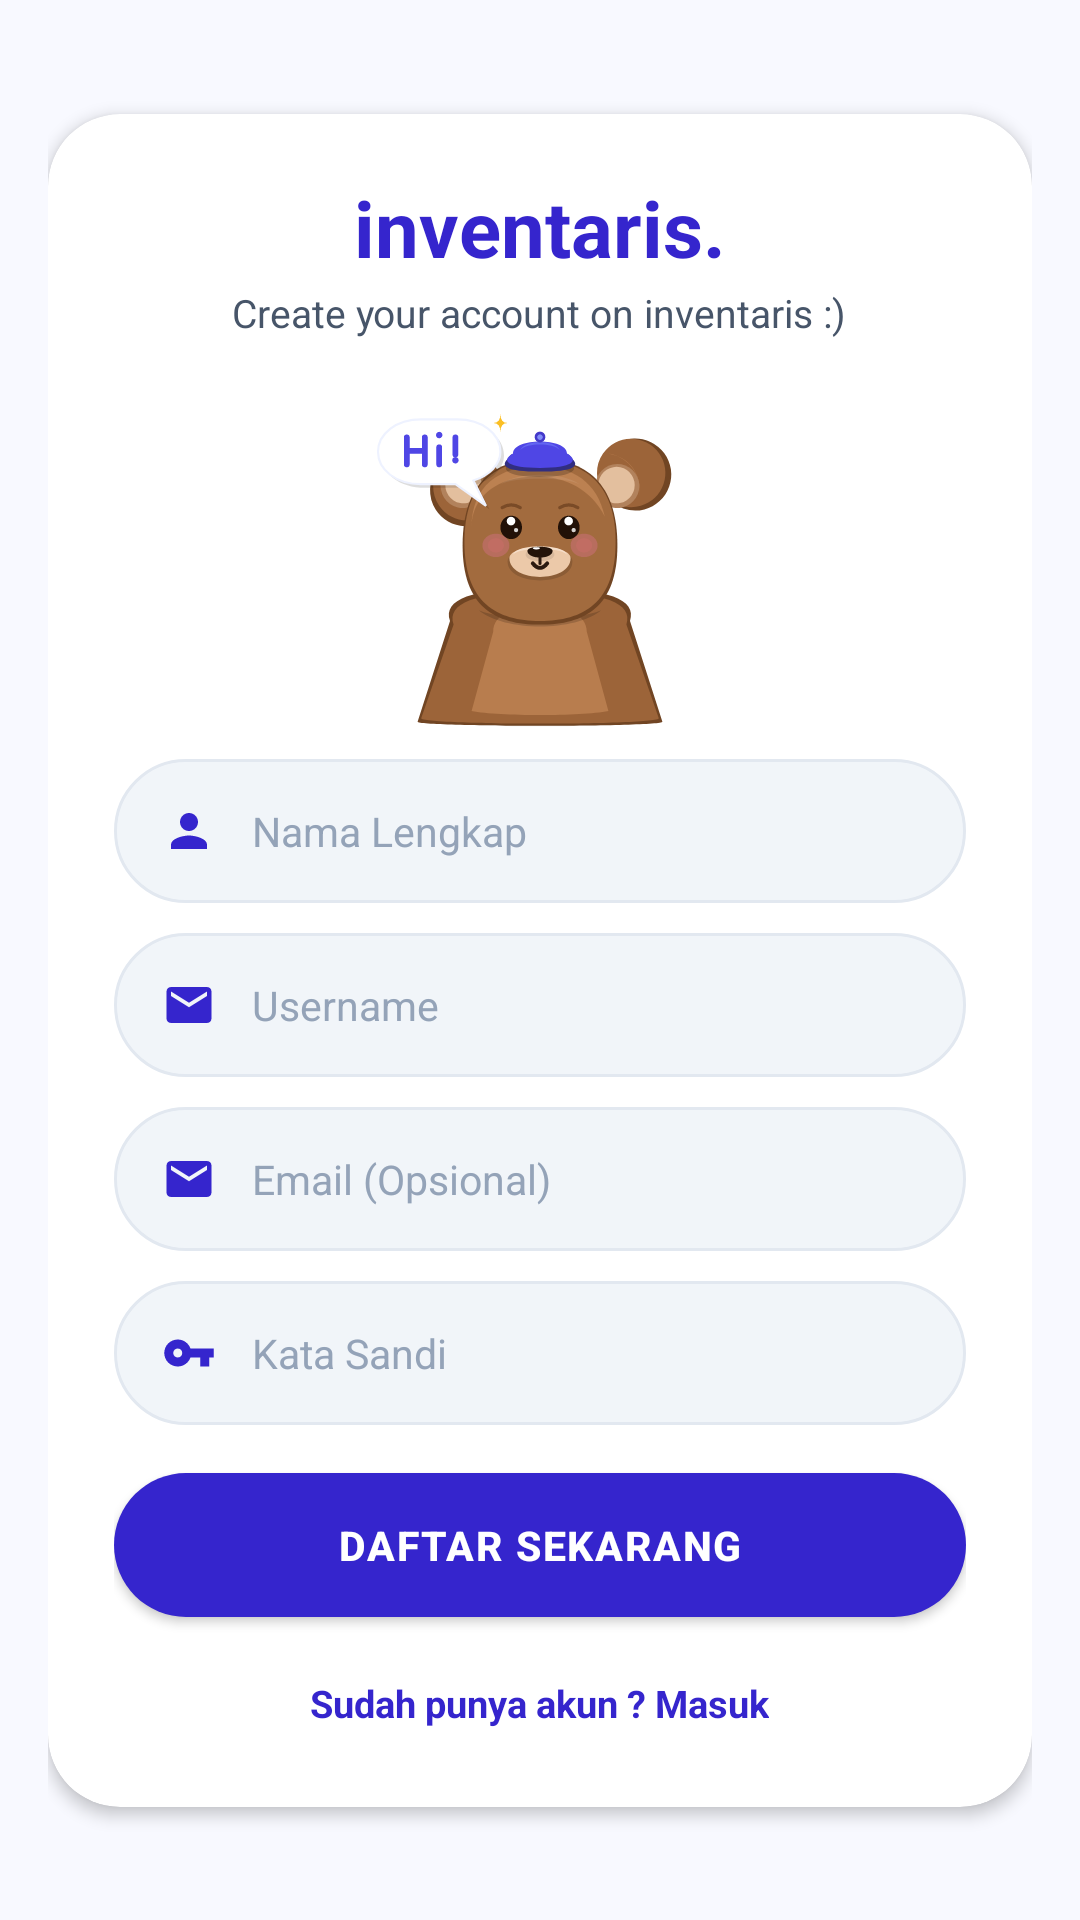

Icon click points for this 1080 x 1920 phone screenshot, format (x=x, y=y):
Maskot Beruang 3D: (x=534, y=570)
Name Icon: (x=189, y=831)
Password Icon: (x=189, y=1353)
